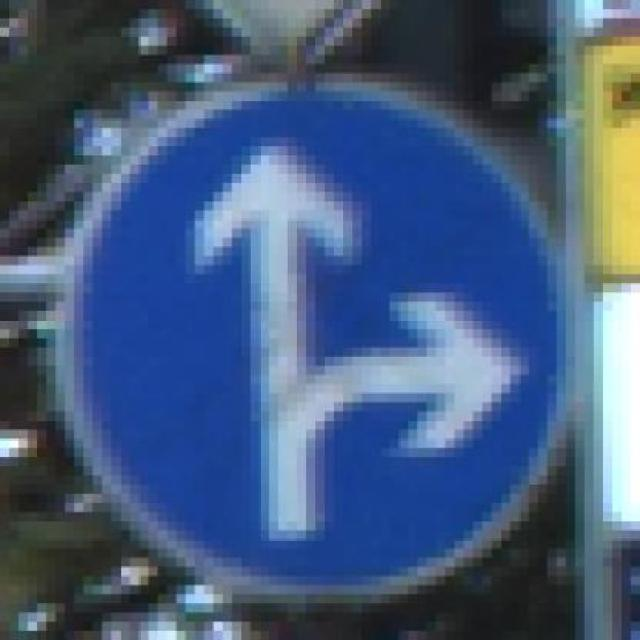Go Straight or Turn Right: (28, 45, 584, 613)
